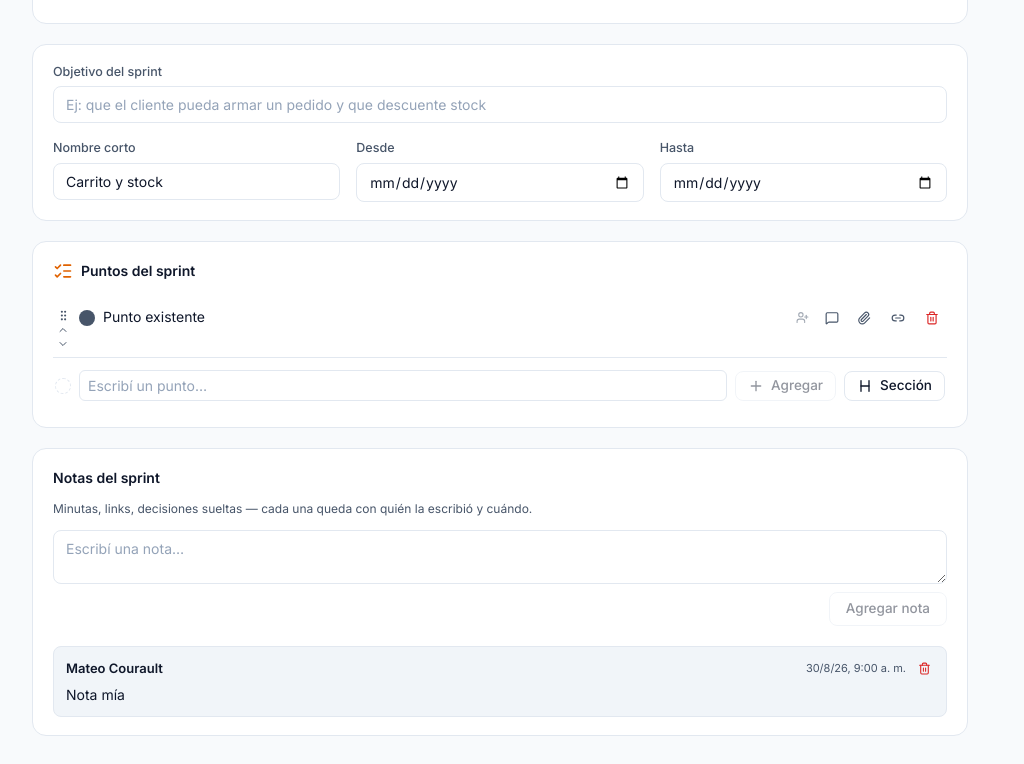
Test: SprintDetalle — notas › borrar una nota propia
(page scrolled)
Click the button titled "Eliminar nota": point(924, 668) [914,658,934,678]
(page scrolled)
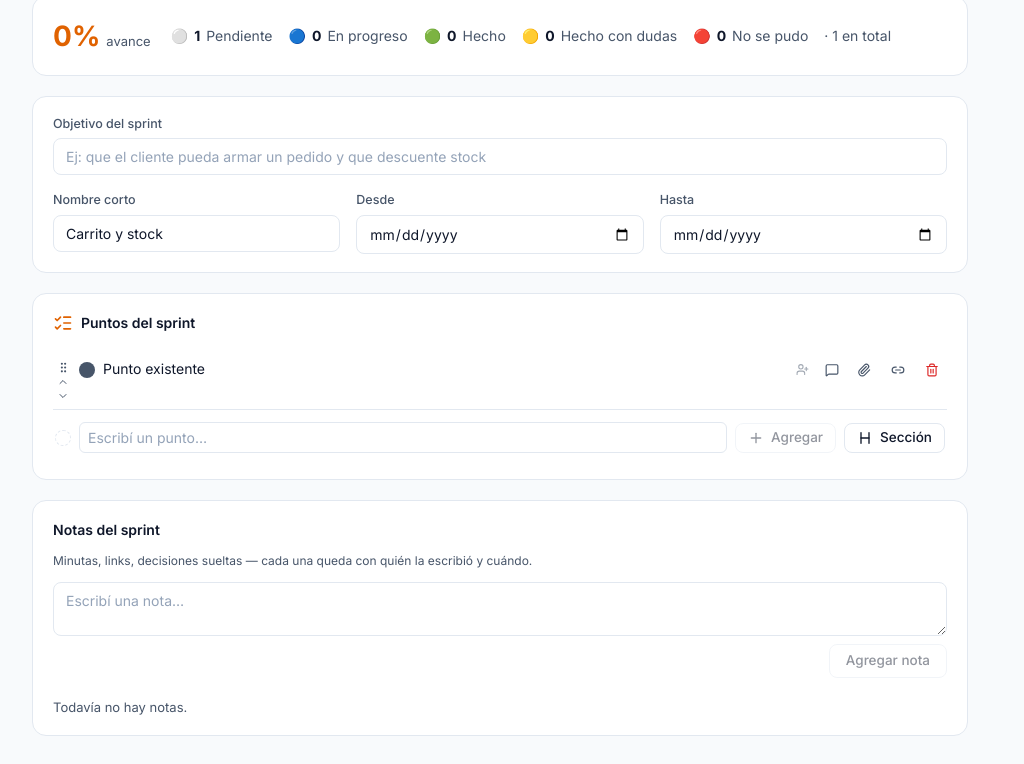
expect the text "Nota mía" is gone: met
